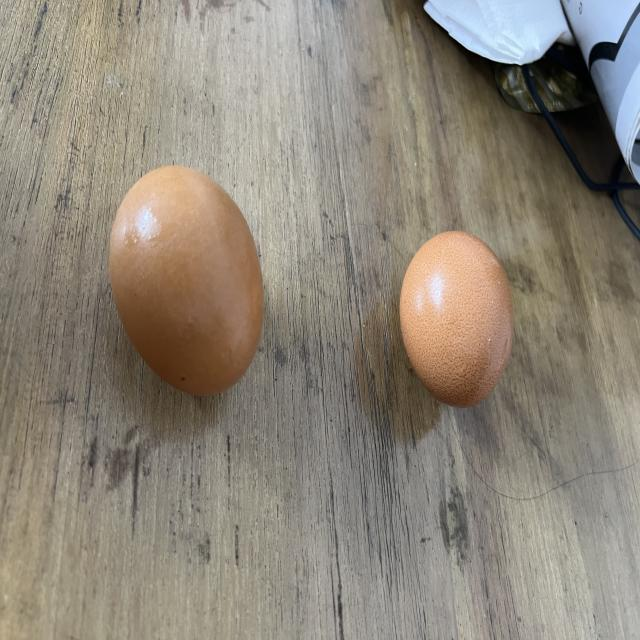Egg: (109, 162, 272, 398), (395, 224, 523, 412)
